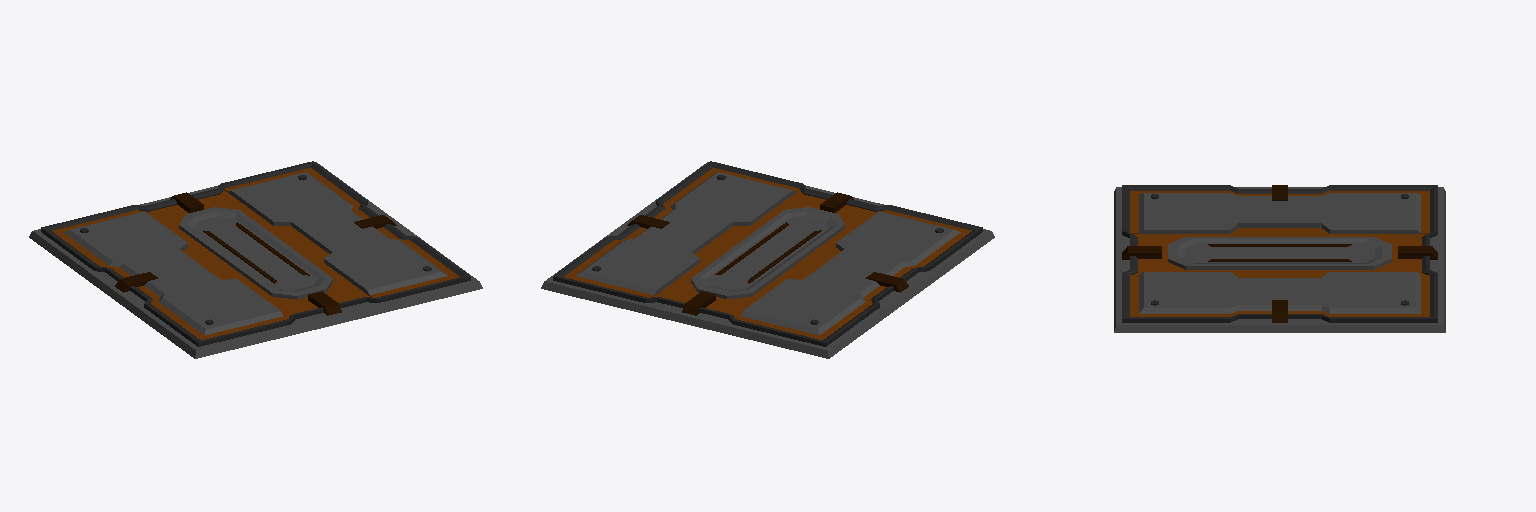
Rendered from FloorTile_Basic2.obj.
3 views of the same model, side by side, from view 1: azimuth 30°, elevation 25°; view 2: azimuth 150°, elevation 25°; view 3: azimuth 270°, elevation 25° (orthographic).
Parts seen in each view (by area): view 1: FloorTile_Basic2_Plane.018; view 2: FloorTile_Basic2_Plane.018; view 3: FloorTile_Basic2_Plane.018.
Part boxes in pixels (x1,y1,x2,y2): FloorTile_Basic2_Plane.018: (29,161,482,358); FloorTile_Basic2_Plane.018: (541,161,994,358); FloorTile_Basic2_Plane.018: (1114,185,1445,332).
Bounding box in the file's own units: 2 × 0.0934 × 2.